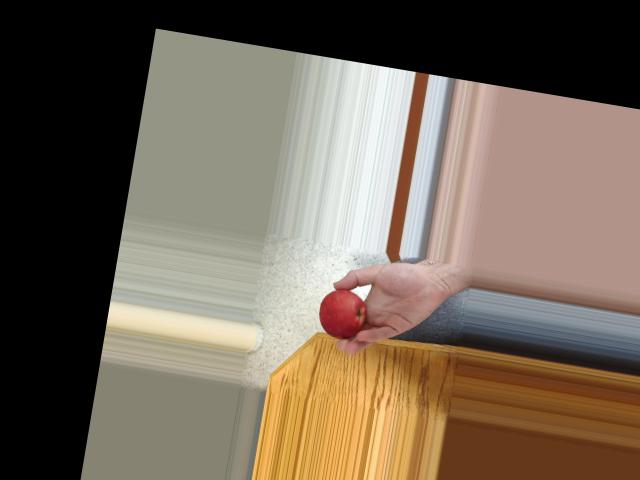apple: (312, 288, 369, 343)
